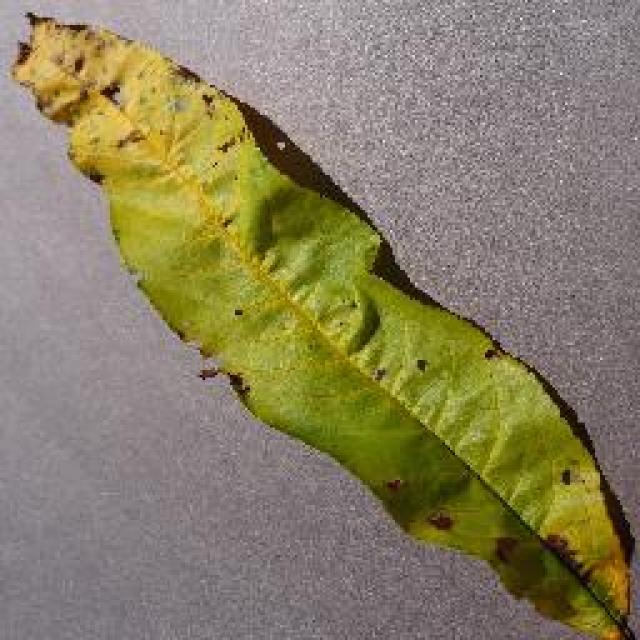Peach_Bacterial_Spot: (50, 13, 598, 532)
